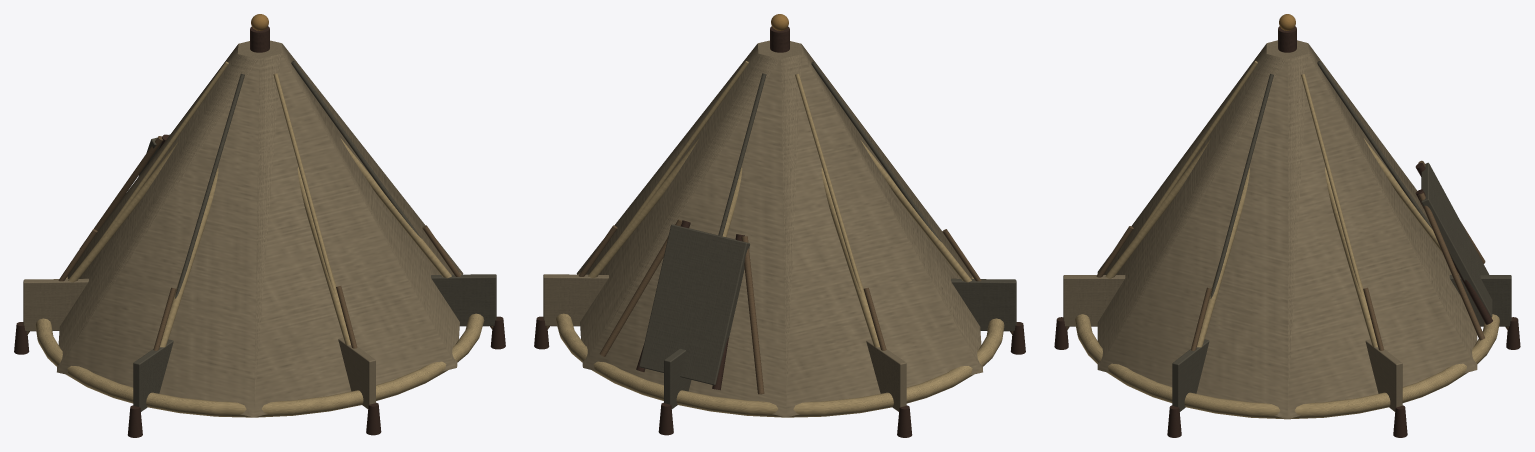
Rendered from command_tent.glb.
The picture shows the model from 3 angles, left to right: view 1: azimuth 30°, elevation 25°; view 2: azimuth 150°, elevation 25°; view 3: azimuth 270°, elevation 25°; orthographic projection.
Visible parts, largest first — view 1: command_tent; view 2: command_tent; view 3: command_tent.
Boxes of the visible parts, x1,y1,x2,y2 form: command_tent: (14, 14, 505, 437); command_tent: (534, 14, 1025, 437); command_tent: (1054, 14, 1520, 437).
Size of the model in its own units: 2.8 by 2.2 by 2.8.
Materials: 1 (1 with a texture image).
